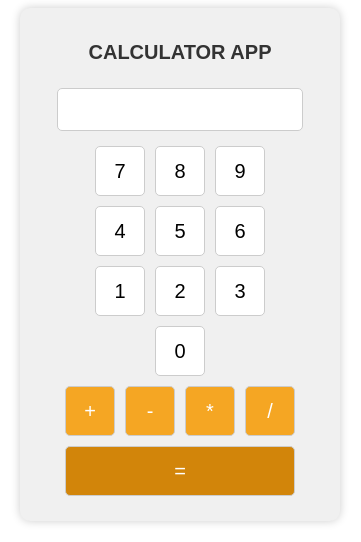
Test case: reactCalculator › should show user input after clicking numbers and operations
Click the button "1" at (120, 291), box left=95, top=266, right=145, bottom=316
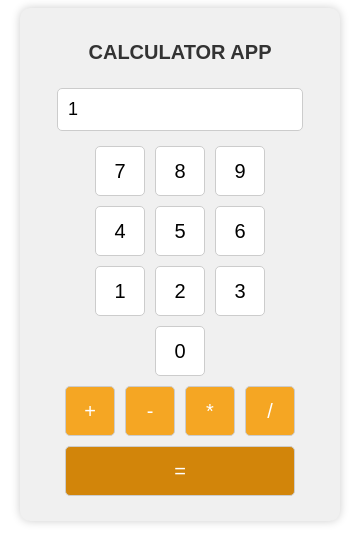
Click the button "+" at (90, 411), box left=65, top=386, right=115, bottom=436
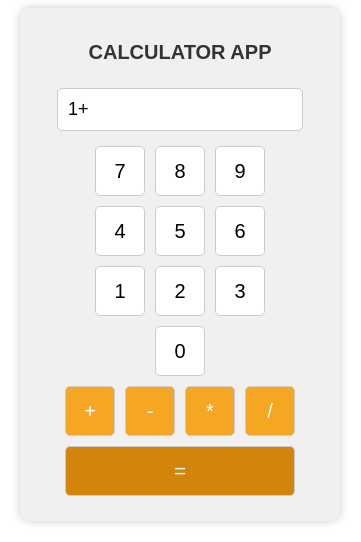
Click the button "2" at (180, 291), box left=155, top=266, right=205, bottom=316
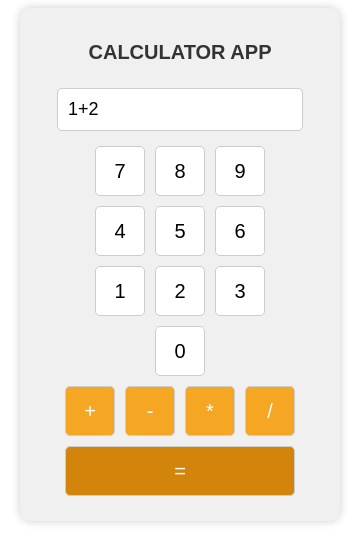
Expected: the field holds "1+2", left=57, top=88, right=303, bottom=131
